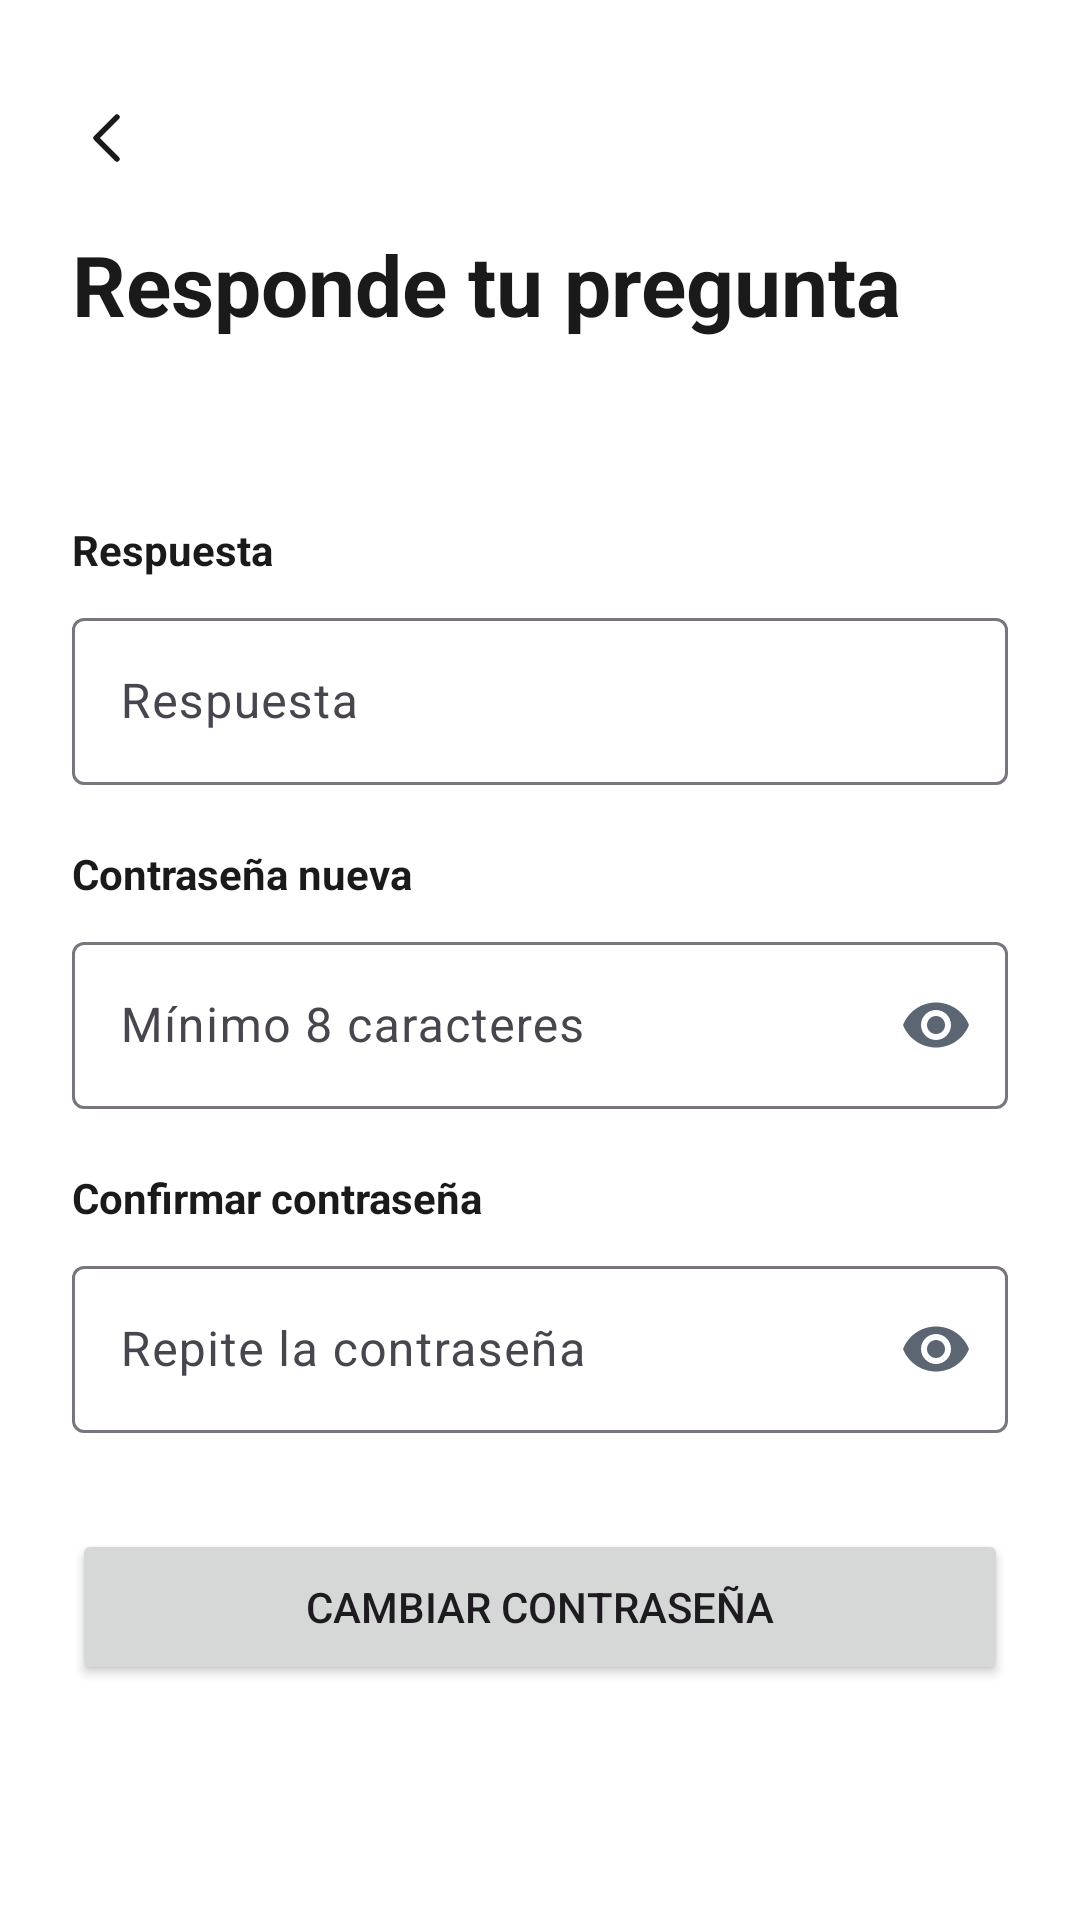

Screen size 1080w x 1920h. Icon name, then its box in pixels as (x1, y1, x2, y2):
Volver: (93, 114, 120, 162)
